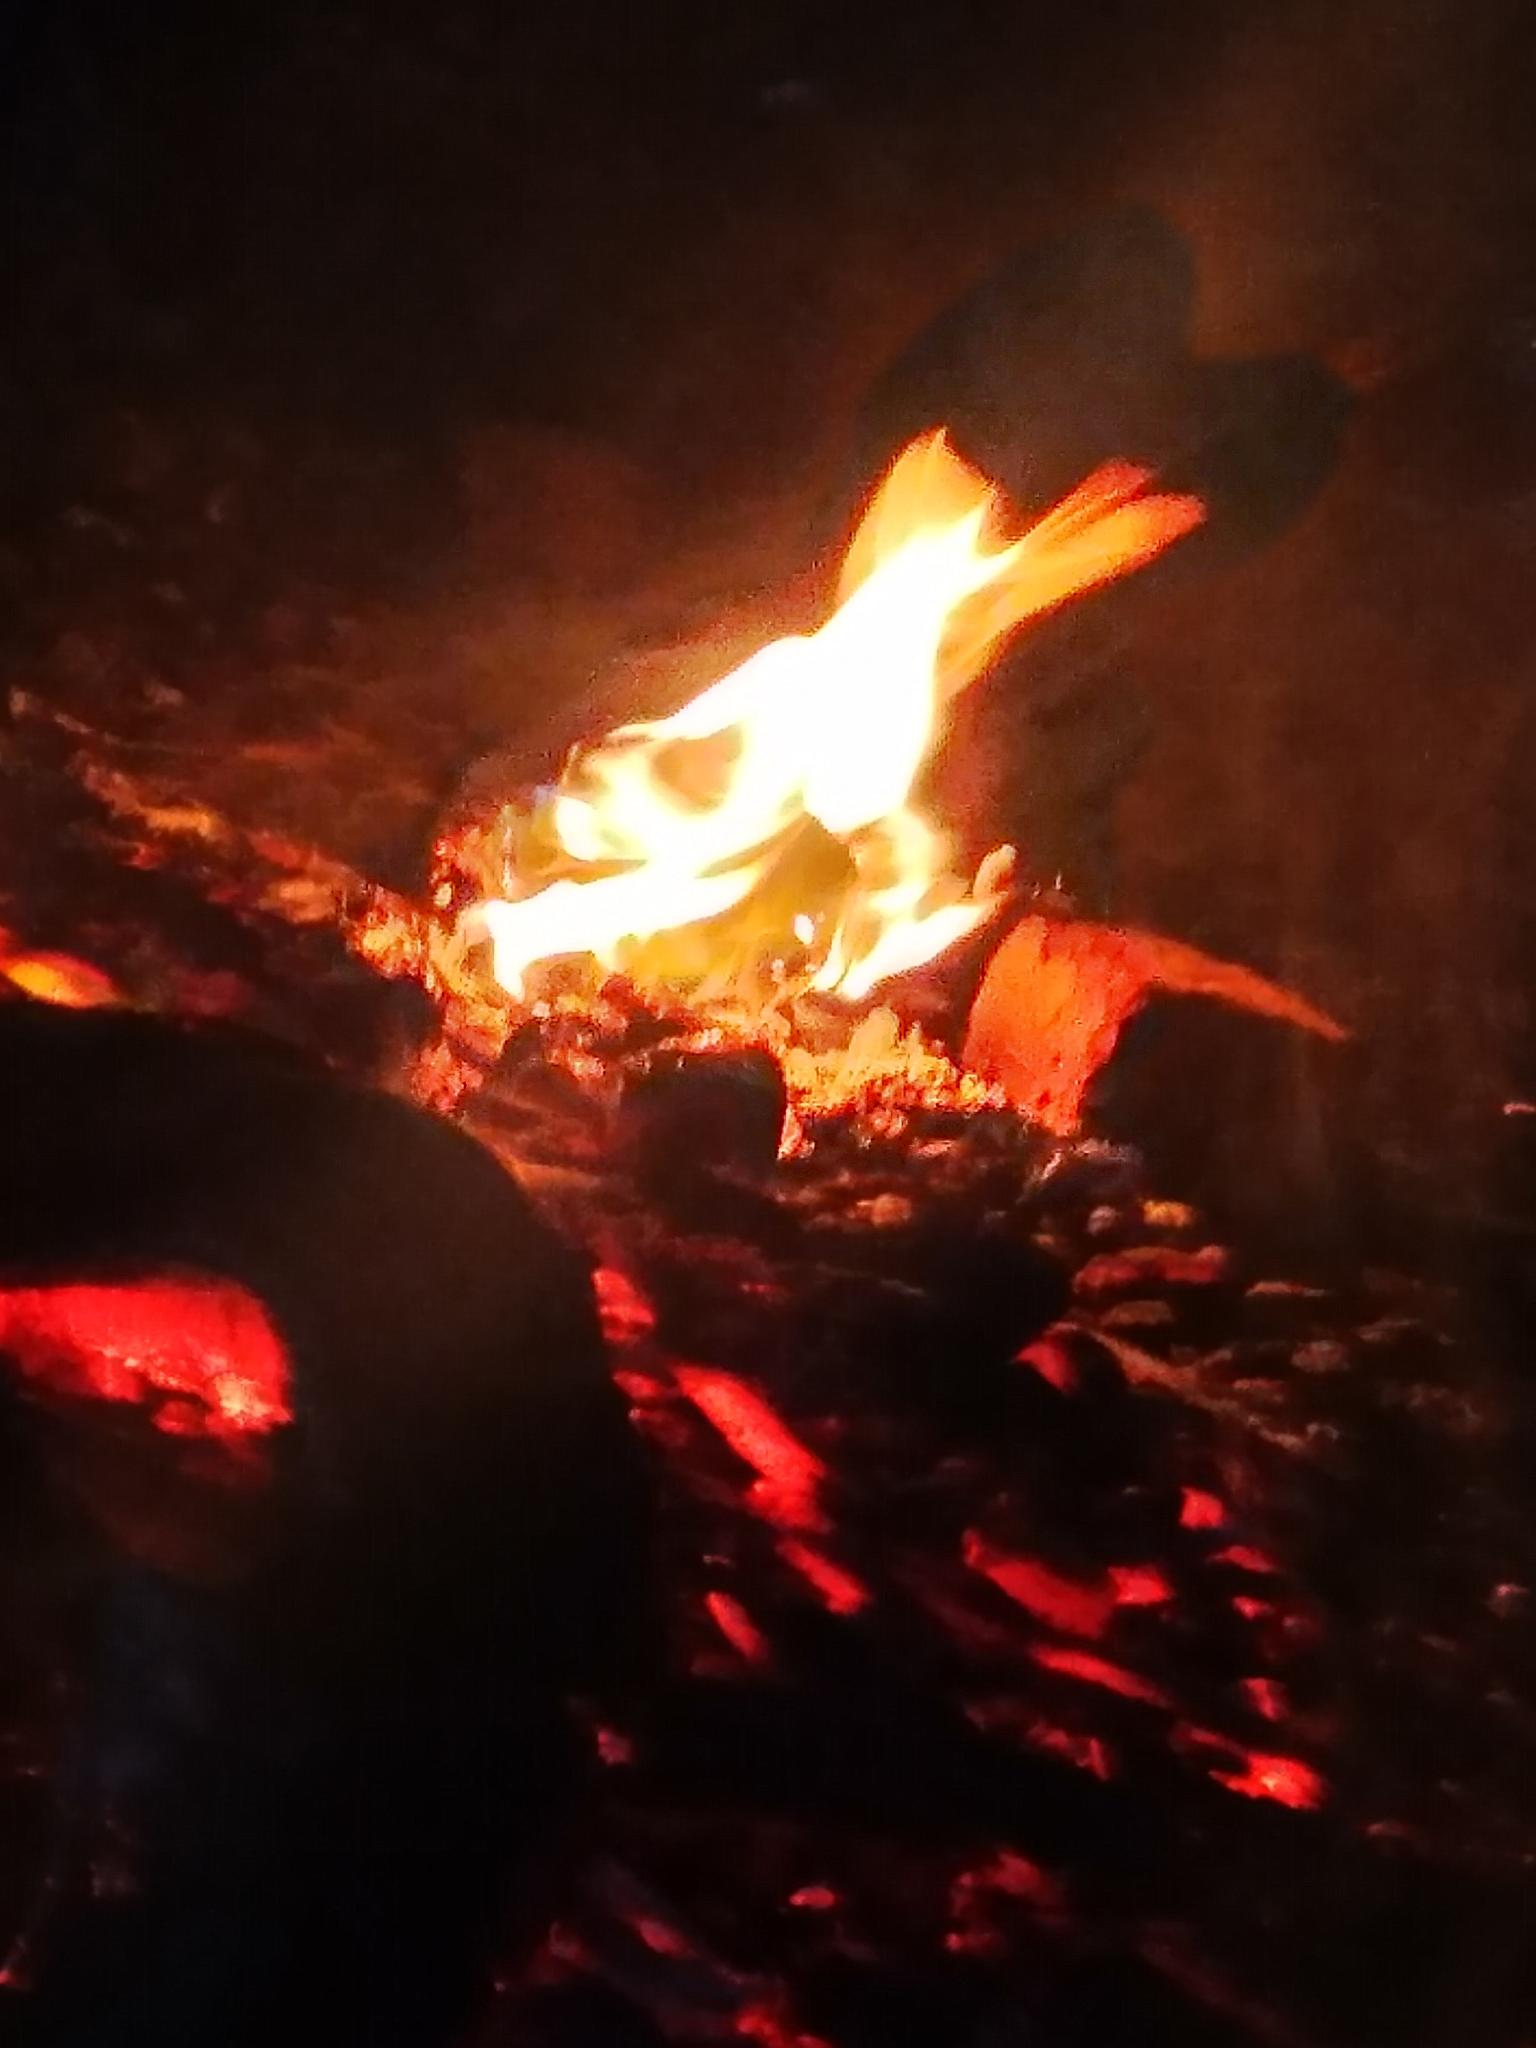Fire: (368, 421, 1205, 1150)
